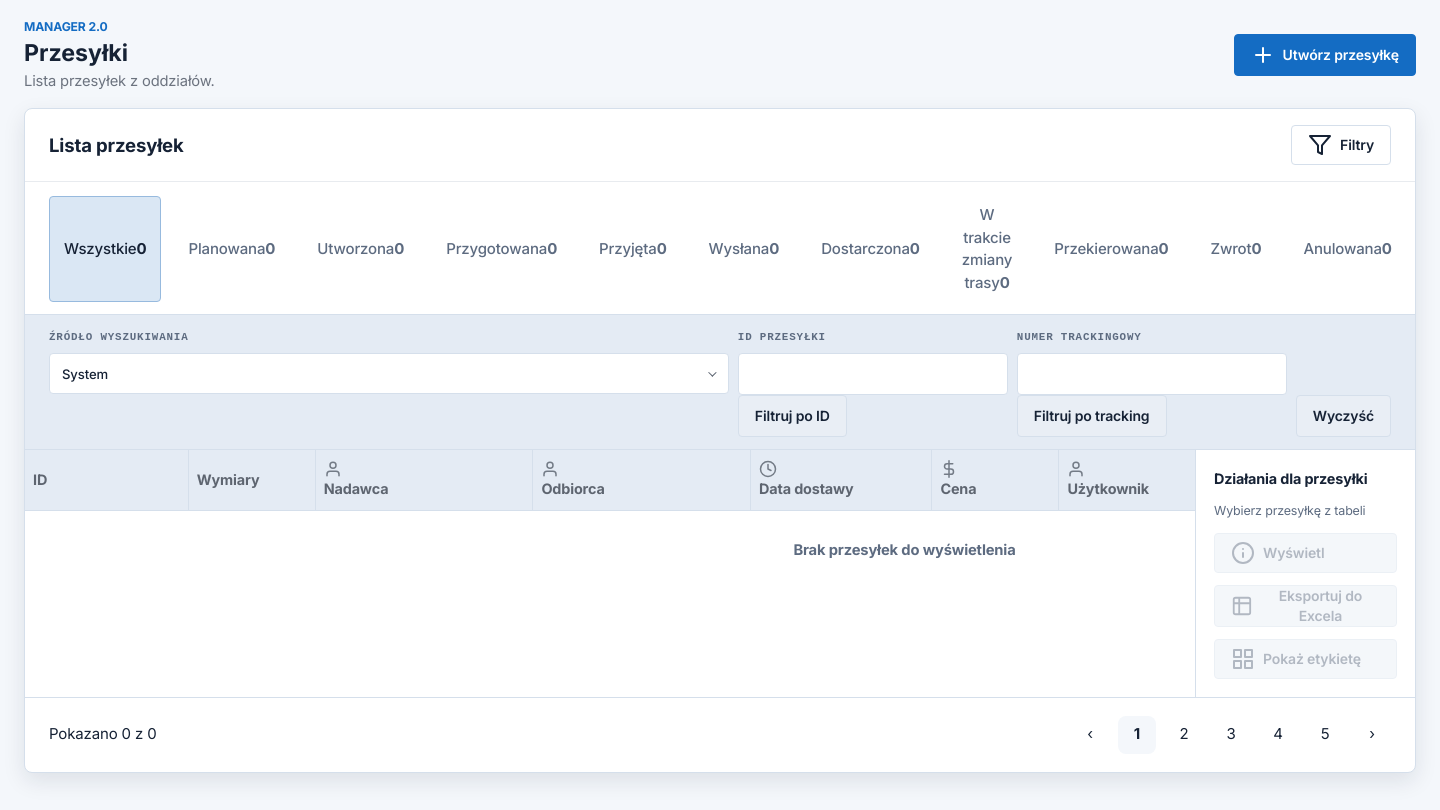
it: external tracking search › shows a stable backend error from external search
This screenshot has width=1440, height=810.
Press the mouse on the dropdown named "Źródło wyszukiwania" at [85, 374], box [50,354,728,393]
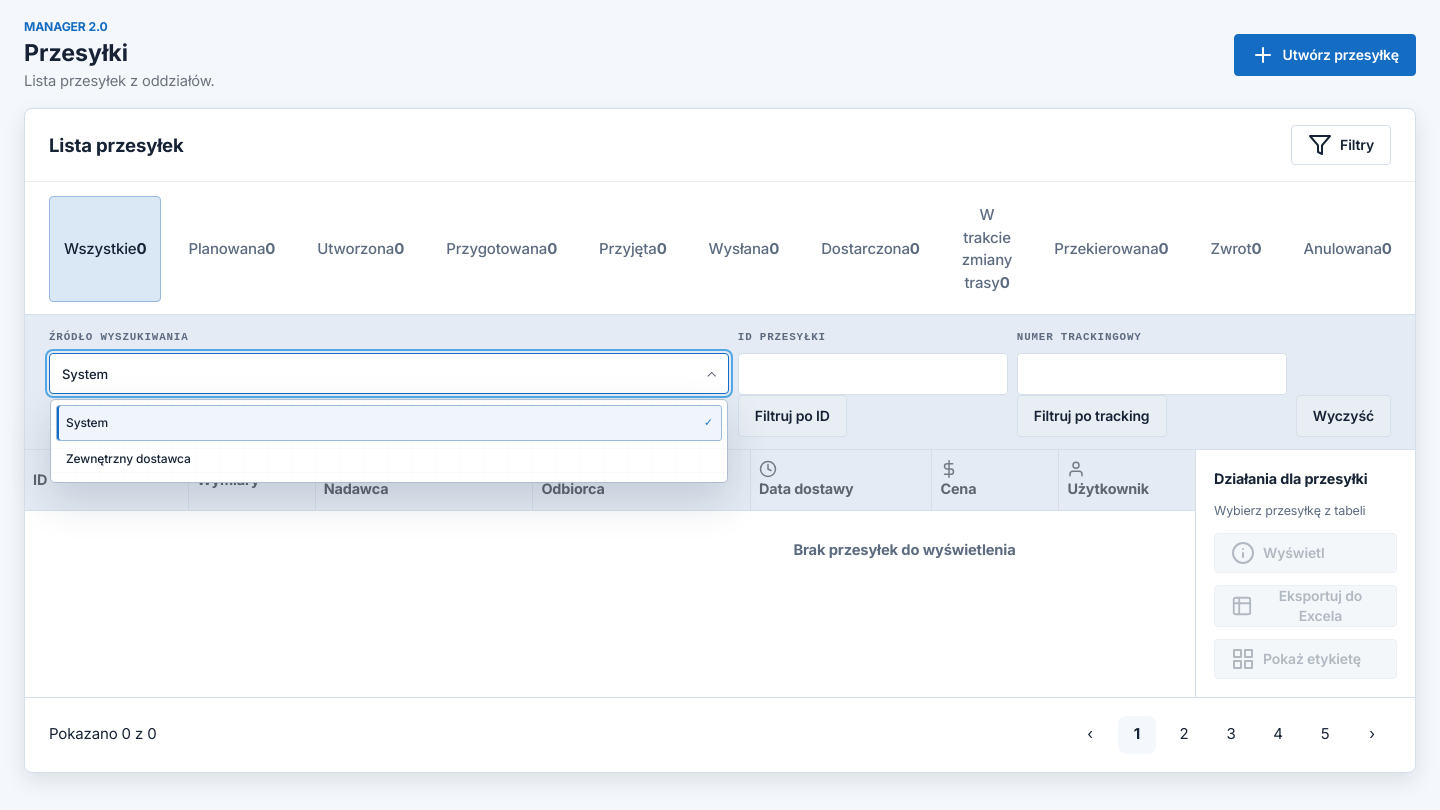
Click the option "Zewnętrzny dostawca" at [128, 459], box [56,441,722,477]
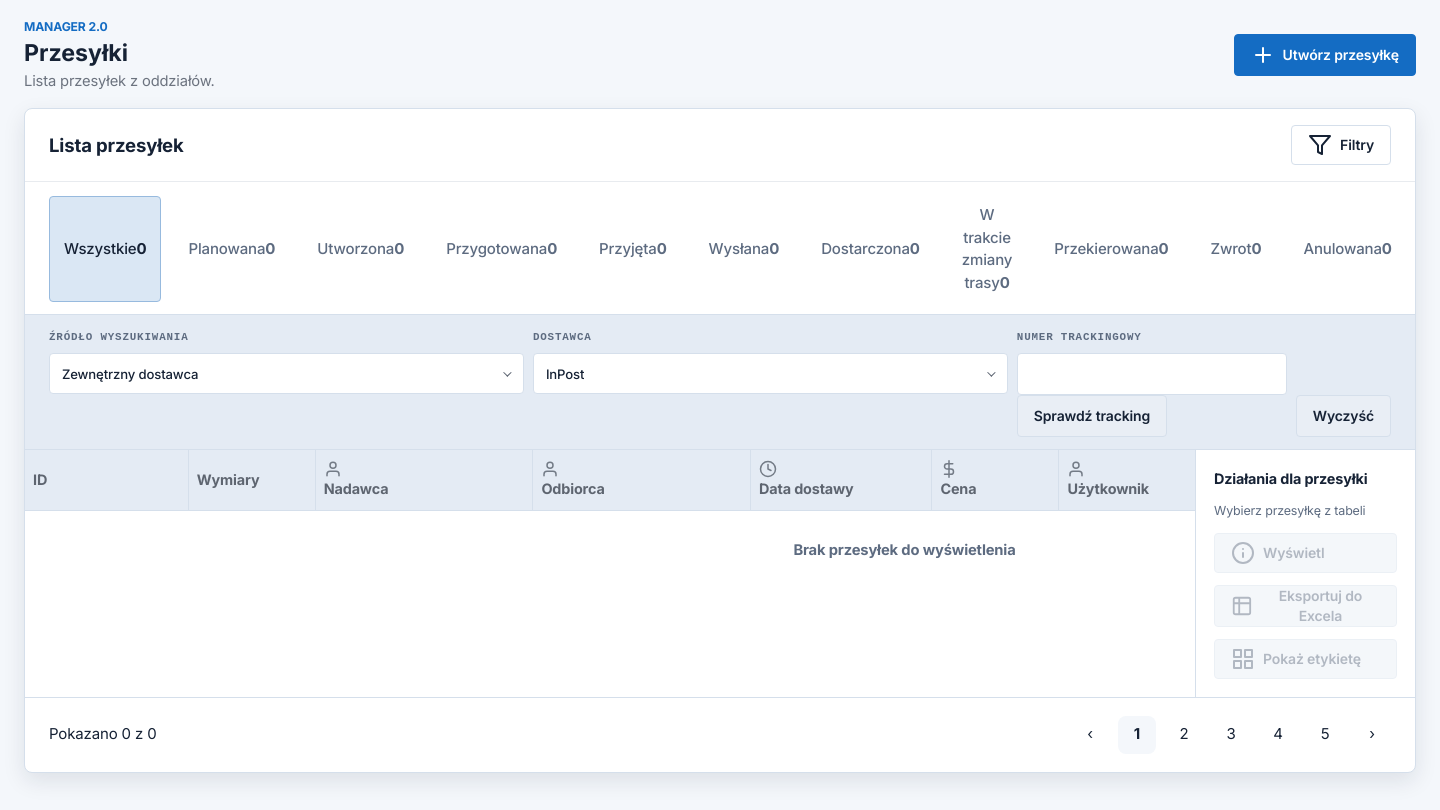
Expected: the dropdown named "Dostawca" reads "InPost", [534,354,1007,393]
Type "TRACK123456" into the field labelled "Numer trackingowy" at [1152, 374], box [1017,353,1287,395]
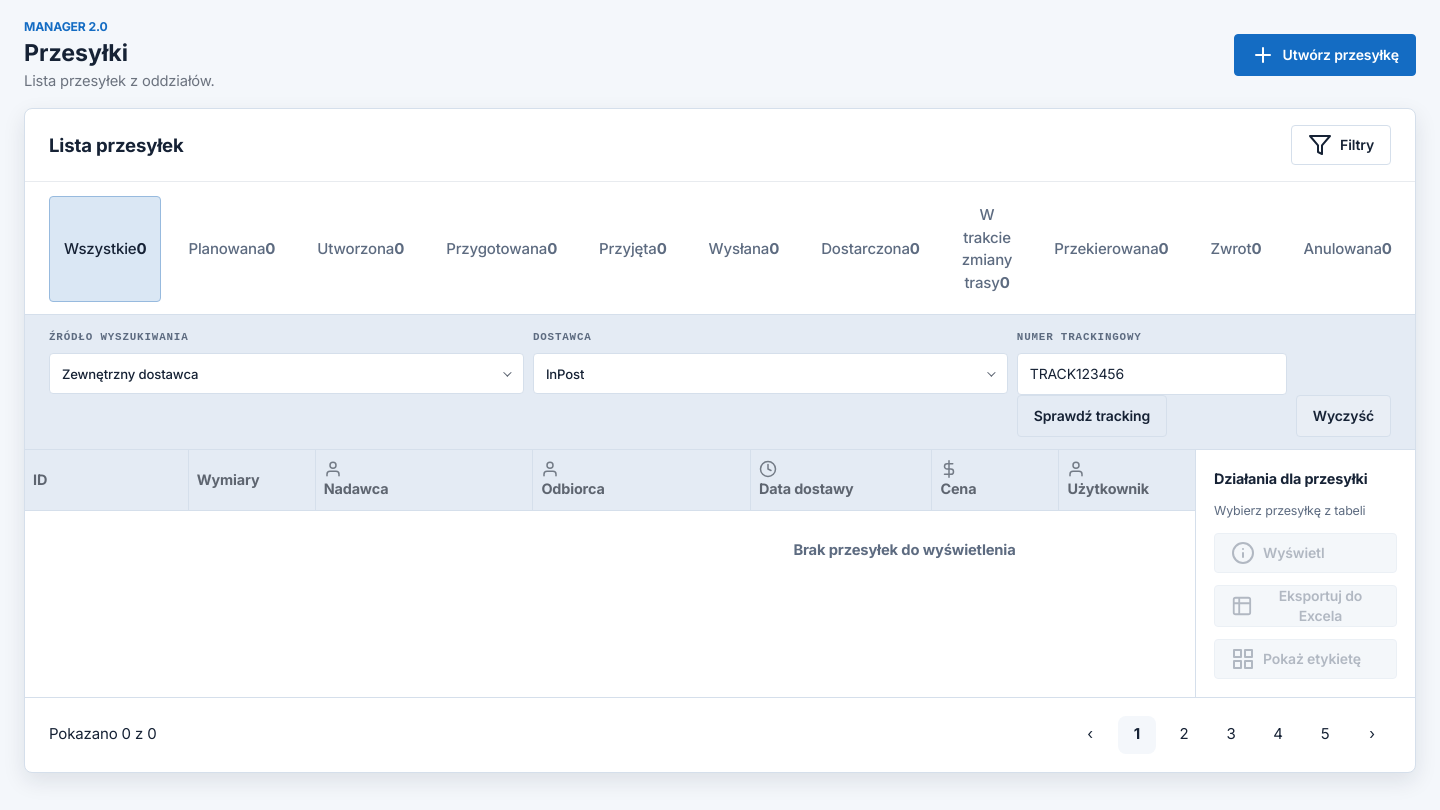
Click the button "Sprawdź tracking" at [1092, 416], box [1017,395,1167,437]
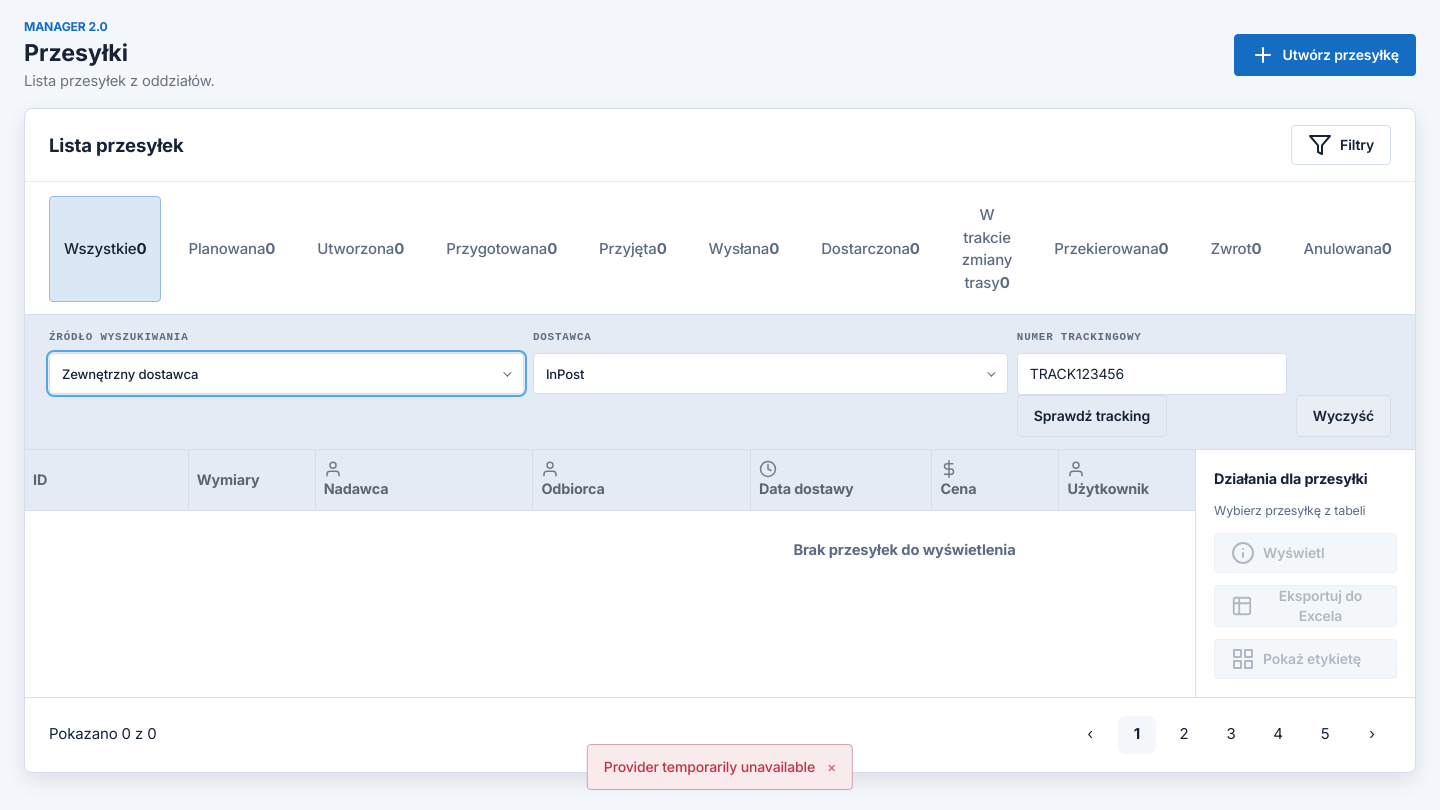
Expected: the text "Provider temporarily unavailable" is shown, [604,757,815,777]
